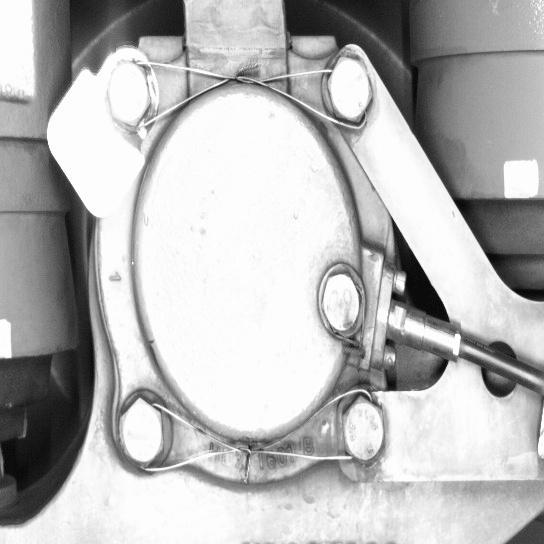IronWire: (109, 388, 389, 474), (102, 53, 381, 131)
Screw: (109, 388, 171, 476), (316, 49, 379, 130), (332, 388, 390, 469), (101, 53, 157, 133), (315, 263, 366, 339)
